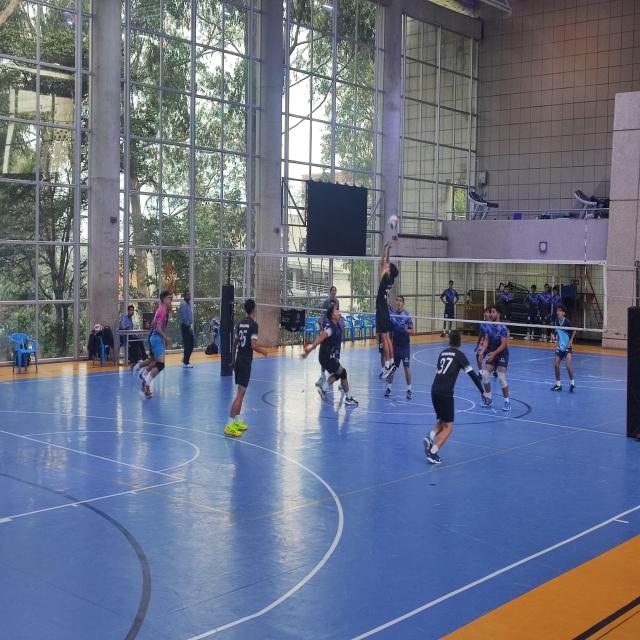volleyball: (388, 215, 399, 230), (94, 324, 102, 334)
